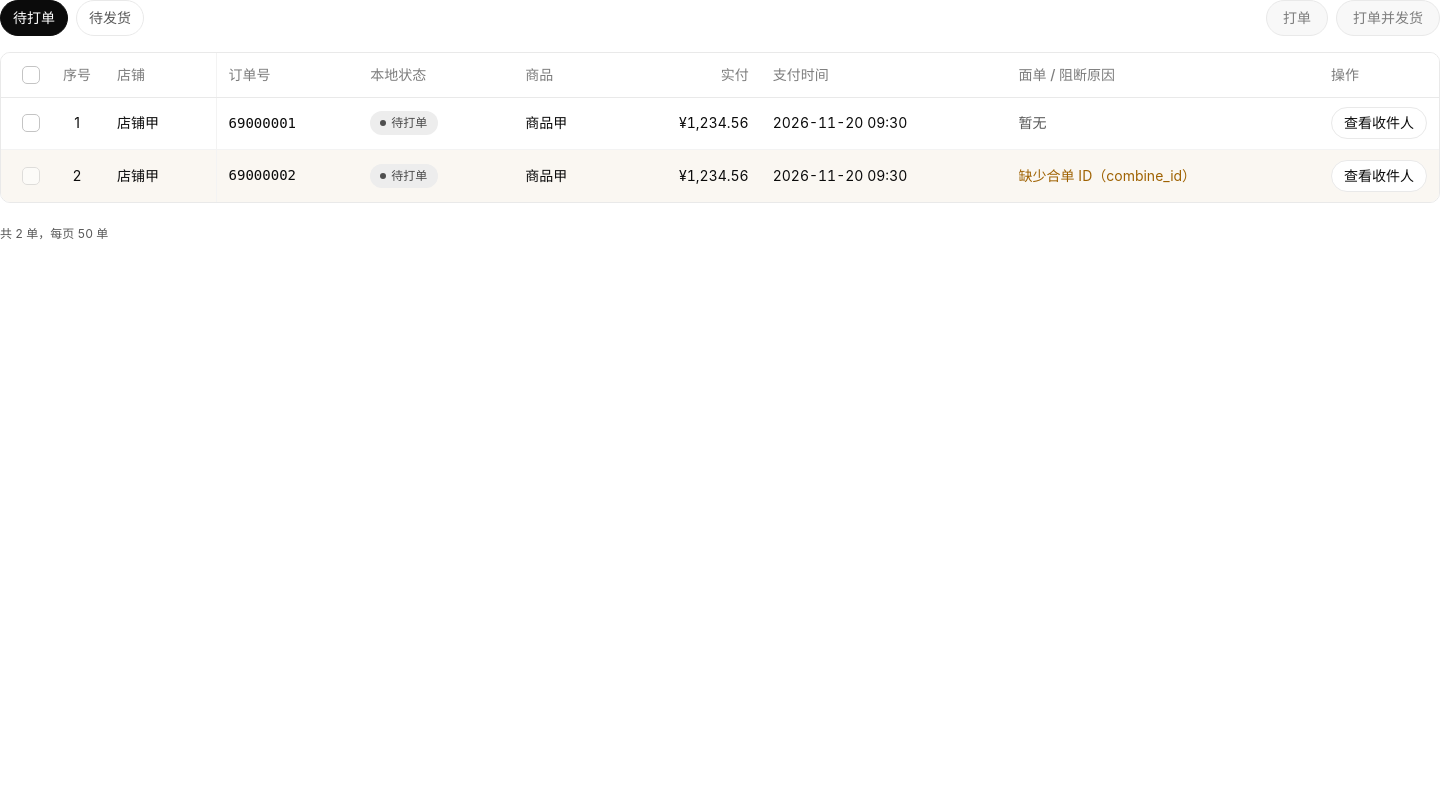
Test: 打单发货 › 预览列出被跳过的订单与整店错误
Click the checkbox named "选择订单 69000001".
click(31, 123)  # box [13, 105, 49, 141]
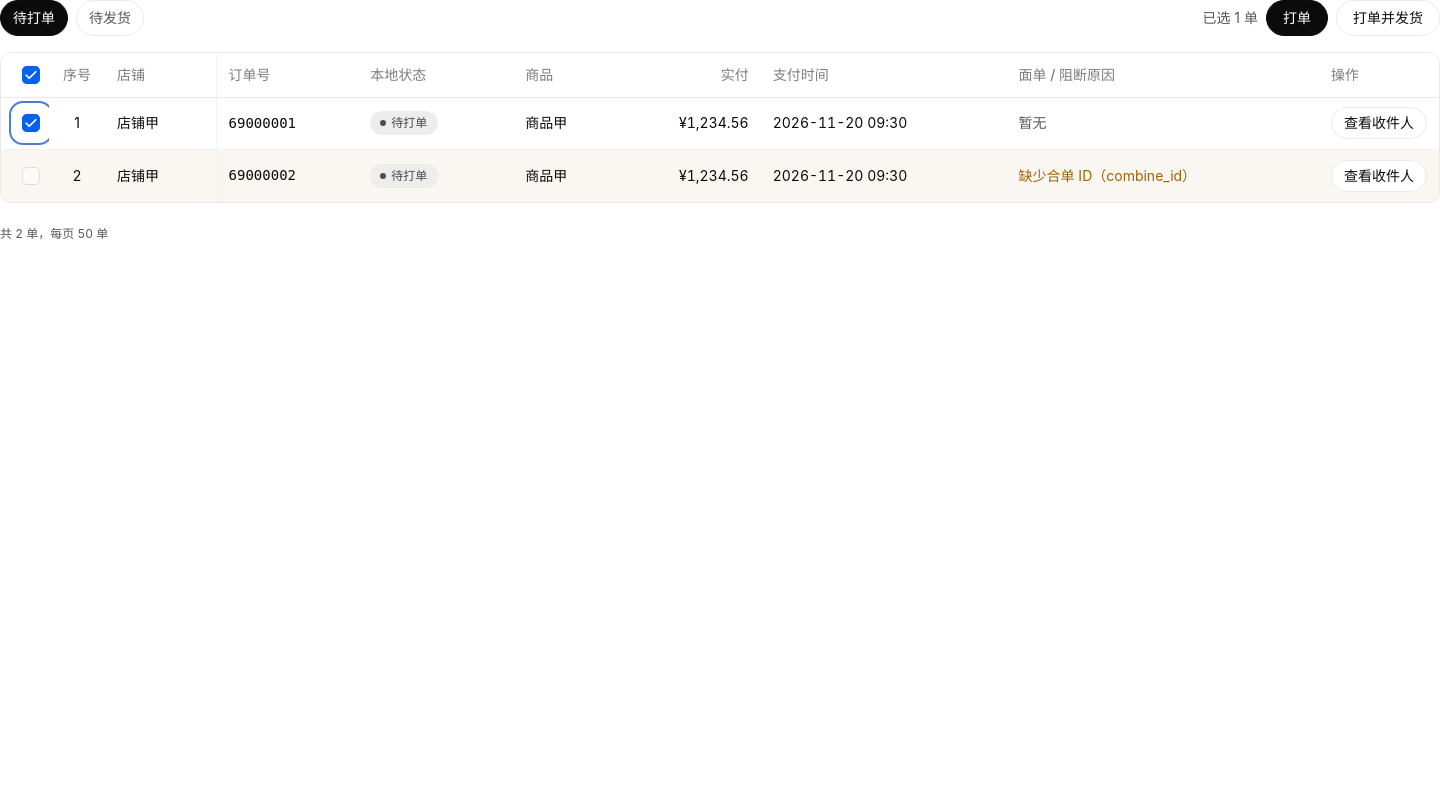
Click the button "打单".
click(1297, 18)  # box [1266, 0, 1328, 36]
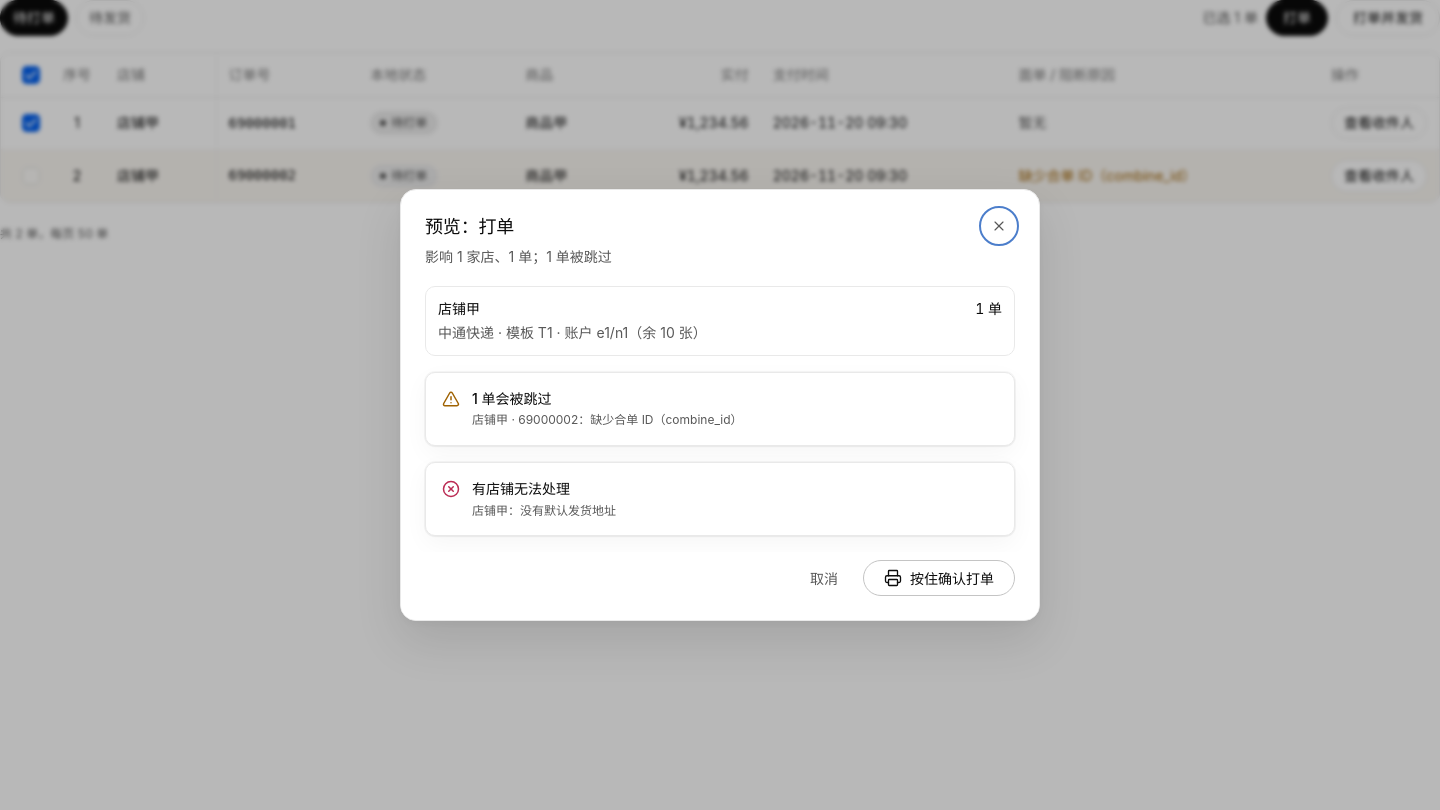
expect the text "1 单会被跳过" is shown: met, box [472, 390, 552, 407]
expect the list item "店铺甲 · 69000002：缺少合单 ID（combine_id）" is shown: met, box [472, 412, 743, 427]
expect the list item "店铺甲：没有默认发货地址" is shown: met, box [472, 503, 616, 518]
